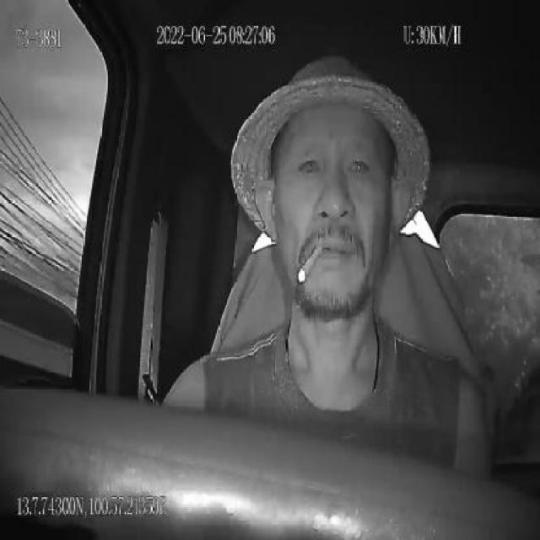smoking: (297, 243, 325, 284)
